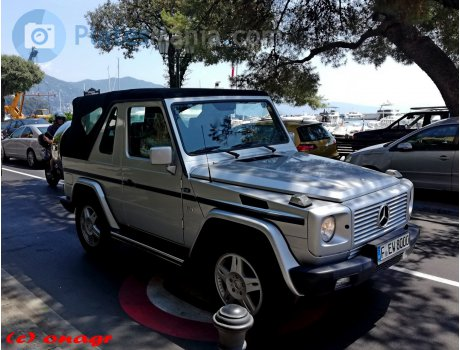License Plates: (380, 240, 414, 255)
